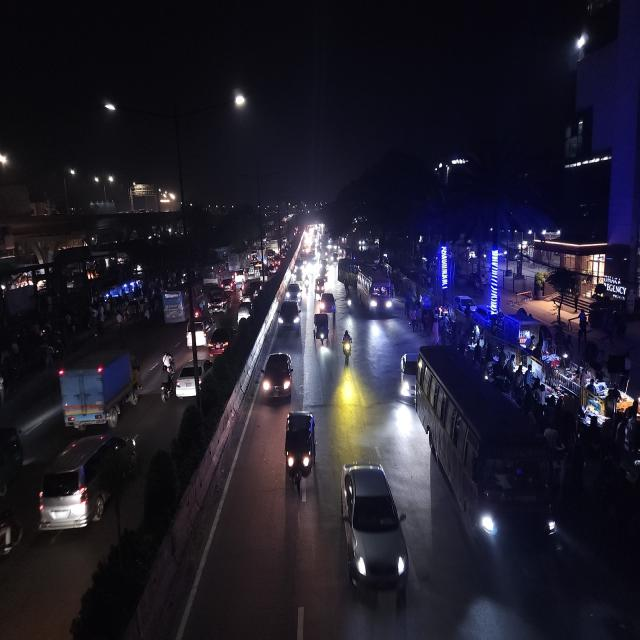bus: (418, 345, 556, 568), (355, 263, 395, 320), (162, 284, 206, 325), (336, 257, 357, 296)
car: (36, 428, 140, 534), (338, 457, 410, 603), (260, 348, 294, 405), (174, 356, 214, 404), (396, 348, 418, 407), (276, 298, 302, 334), (206, 326, 234, 358), (184, 316, 212, 347), (204, 284, 230, 315), (318, 290, 338, 315), (285, 279, 303, 302), (221, 276, 235, 292)
cng: (283, 408, 318, 496), (312, 310, 331, 348), (237, 302, 252, 324), (314, 279, 326, 296)
motorcycle: (159, 361, 174, 406), (340, 328, 354, 365), (160, 349, 174, 376), (344, 294, 354, 316), (303, 275, 311, 292)
pedestrian: (409, 304, 419, 332), (402, 295, 410, 318)
truck: (56, 342, 142, 430)
